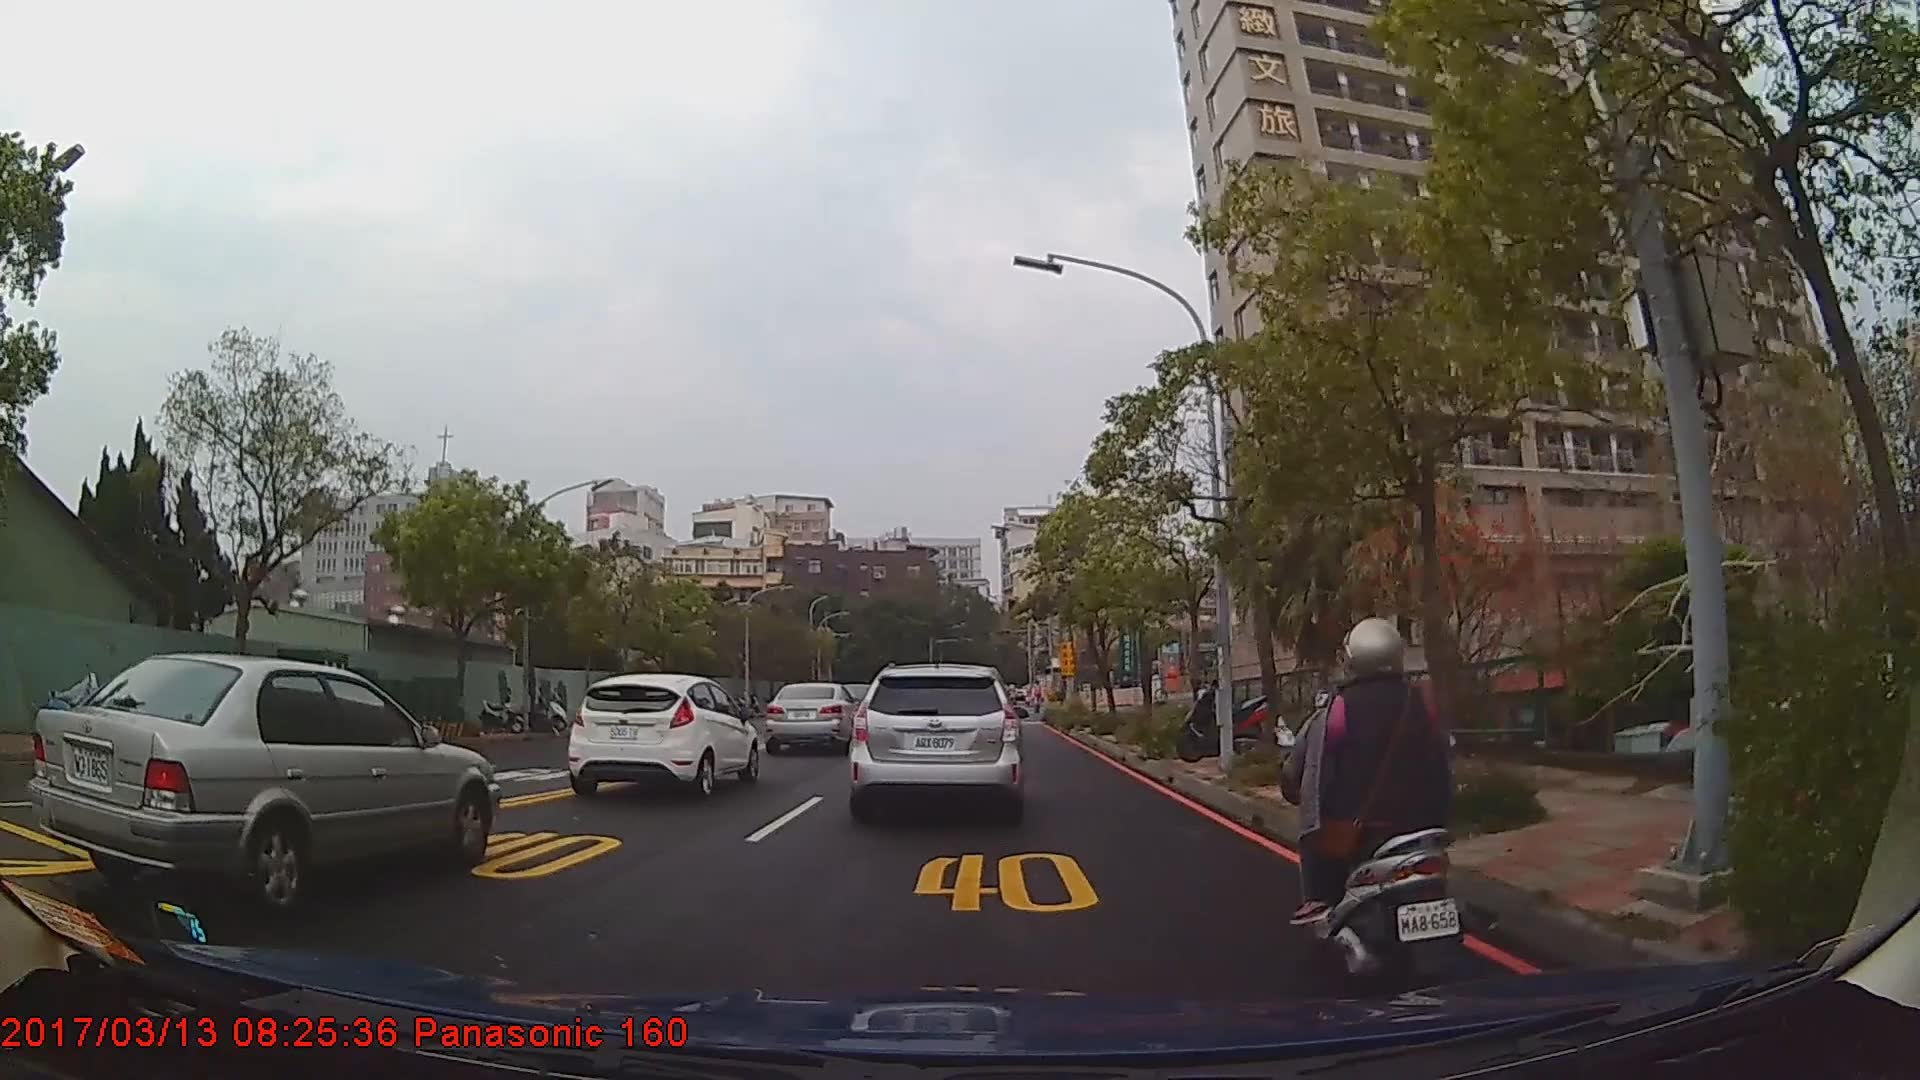rider: (1276, 614, 1456, 997)
vehicle: (29, 652, 501, 913), (846, 660, 1023, 820), (565, 672, 759, 799), (766, 681, 863, 753)
